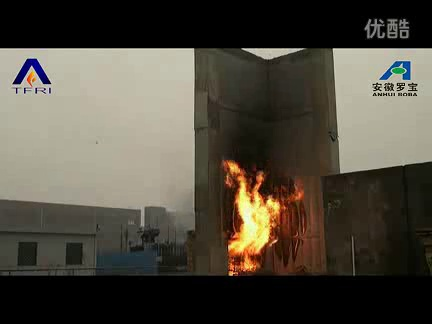fire: (214, 158, 302, 275)
